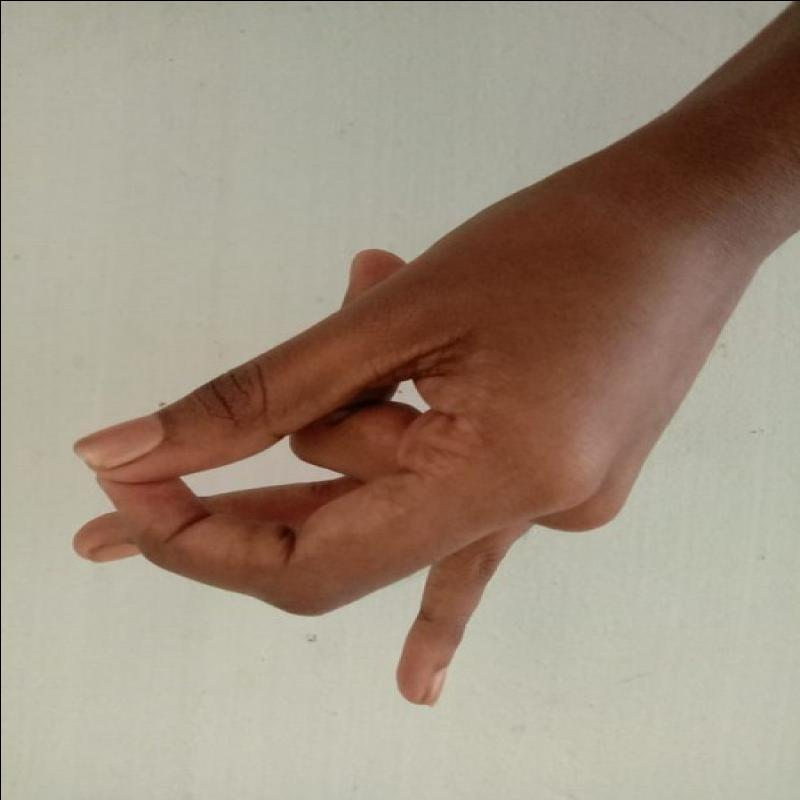Katakam: (71, 163, 676, 717)
